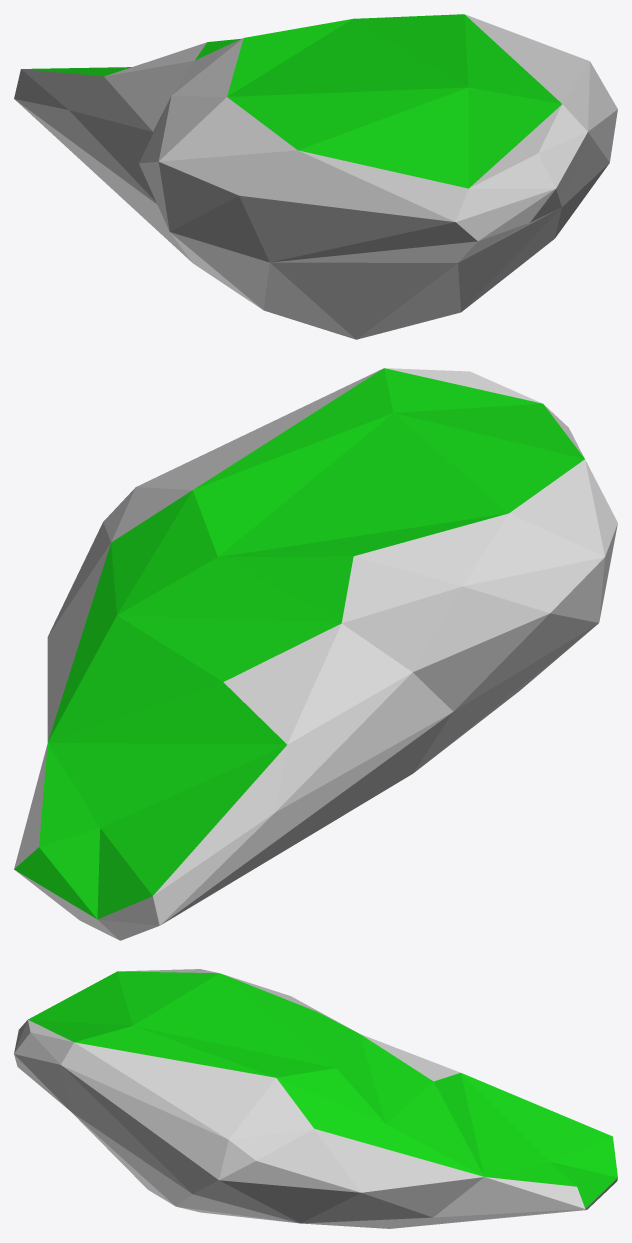
Rendered from ak_grasspath.fbx.
3 renders of one model, top to bottom at view 1: azimuth 30°, elevation 25°; view 2: azimuth 150°, elevation 25°; view 3: azimuth 270°, elevation 25°, orthographic. The views are drawn at different scales.
Visible parts, largest first — view 1: GrassPath; view 2: GrassPath; view 3: GrassPath.
Boxes of the visible parts, x1,y1,x2,y2 form: GrassPath: (14, 14, 617, 339); GrassPath: (14, 368, 617, 940); GrassPath: (14, 969, 617, 1228).
Size of the model in its own units: 350 by 199 by 556.
